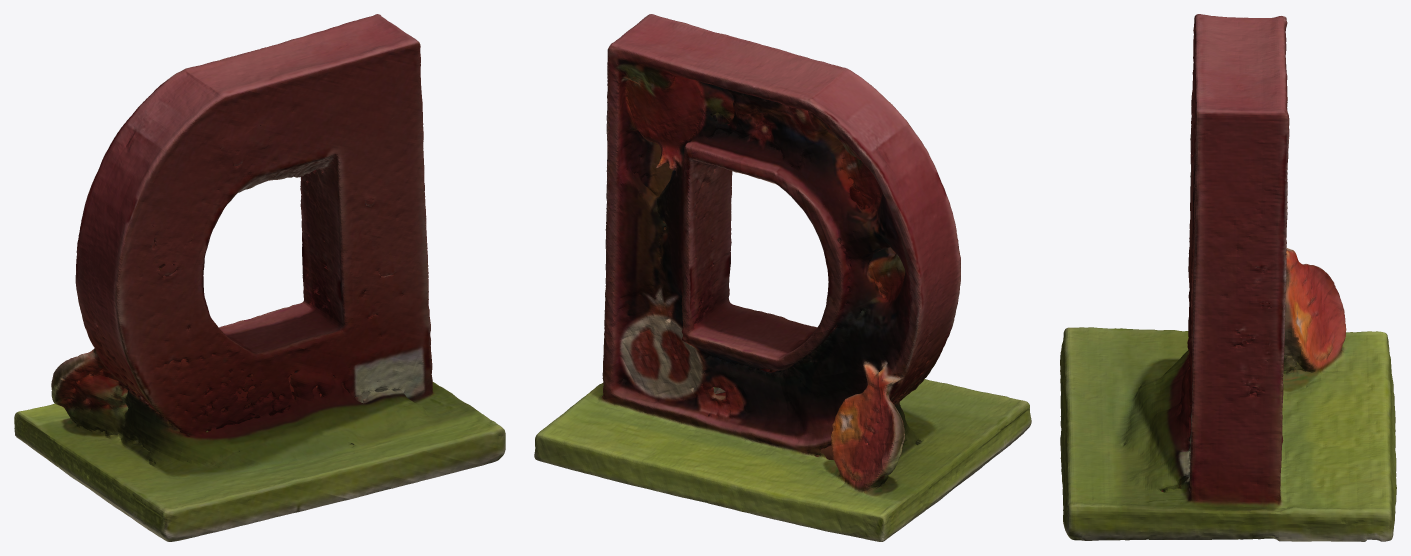
3 renders of one model, left to right at view 1: azimuth 30°, elevation 25°; view 2: azimuth 150°, elevation 25°; view 3: azimuth 270°, elevation 25°, orthographic. The views are drawn at different scales.
Parts seen in each view (by area): view 1: 3DModel; view 2: 3DModel; view 3: 3DModel.
Part boxes in pixels (box(x1,y1,x2,y2)): 3DModel: box(14, 14, 505, 541); 3DModel: box(534, 14, 1031, 541); 3DModel: box(1060, 14, 1396, 541).
Bounding box in the file's own units: 2.07 × 2.17 × 1.59.
Materials: 1 (1 with a texture image).
